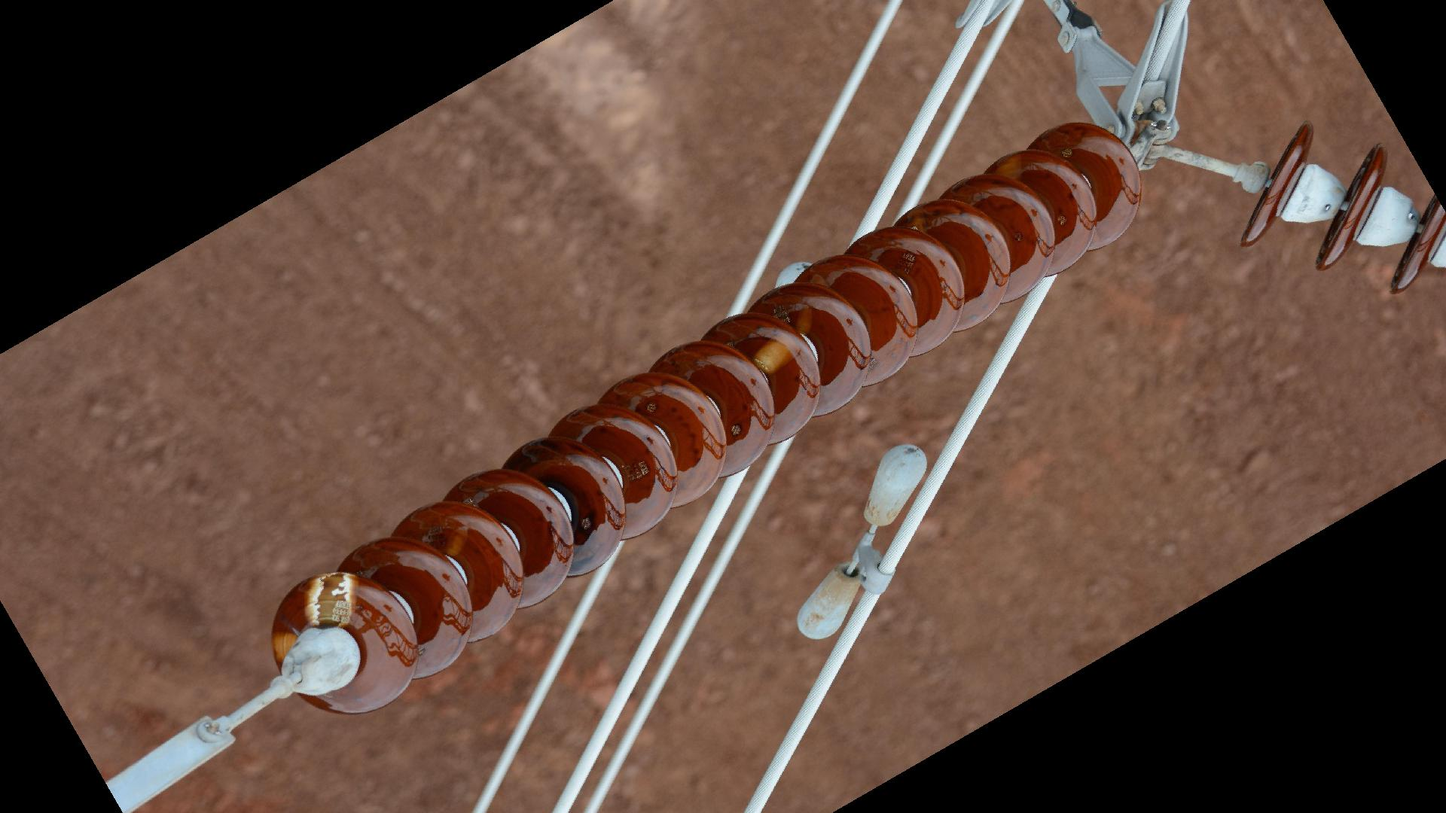insulator: (261, 117, 1149, 722), (1235, 120, 1446, 300)
insulator_flashover: (300, 569, 357, 629), (751, 333, 798, 376), (269, 630, 298, 664)
